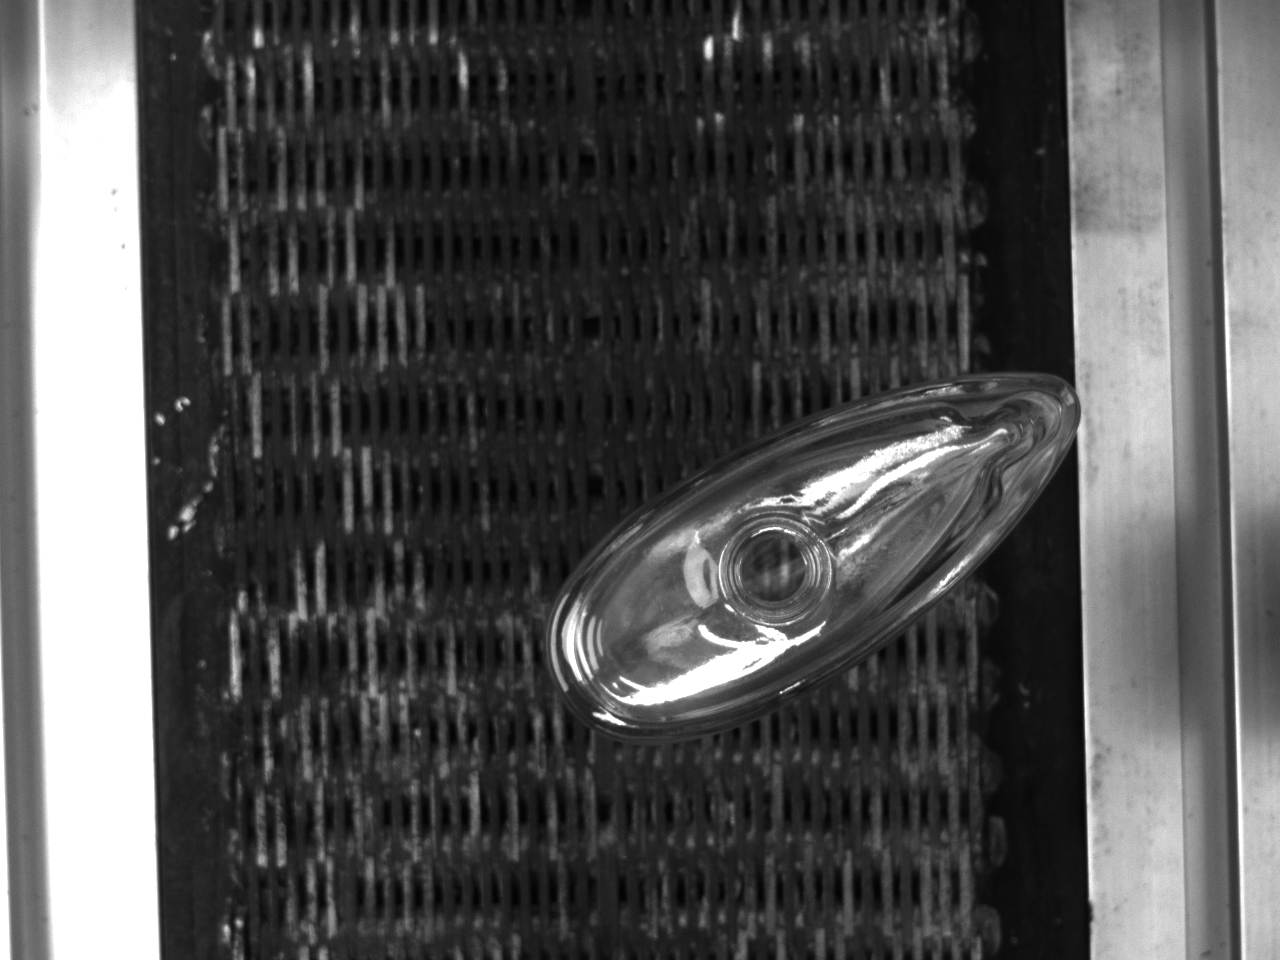bottleneck: (720, 516, 833, 625)
